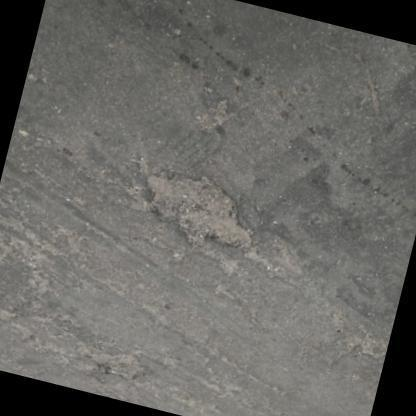pothole: (138, 164, 254, 254), (80, 342, 150, 385)
